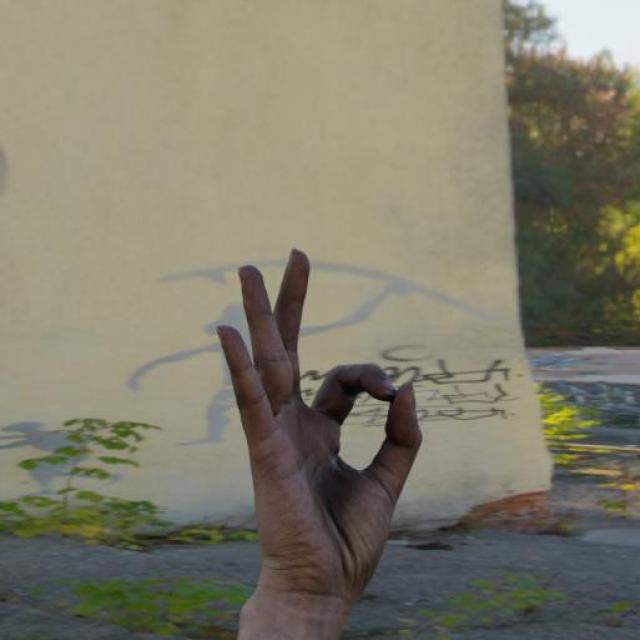F: (212, 242, 427, 592)
